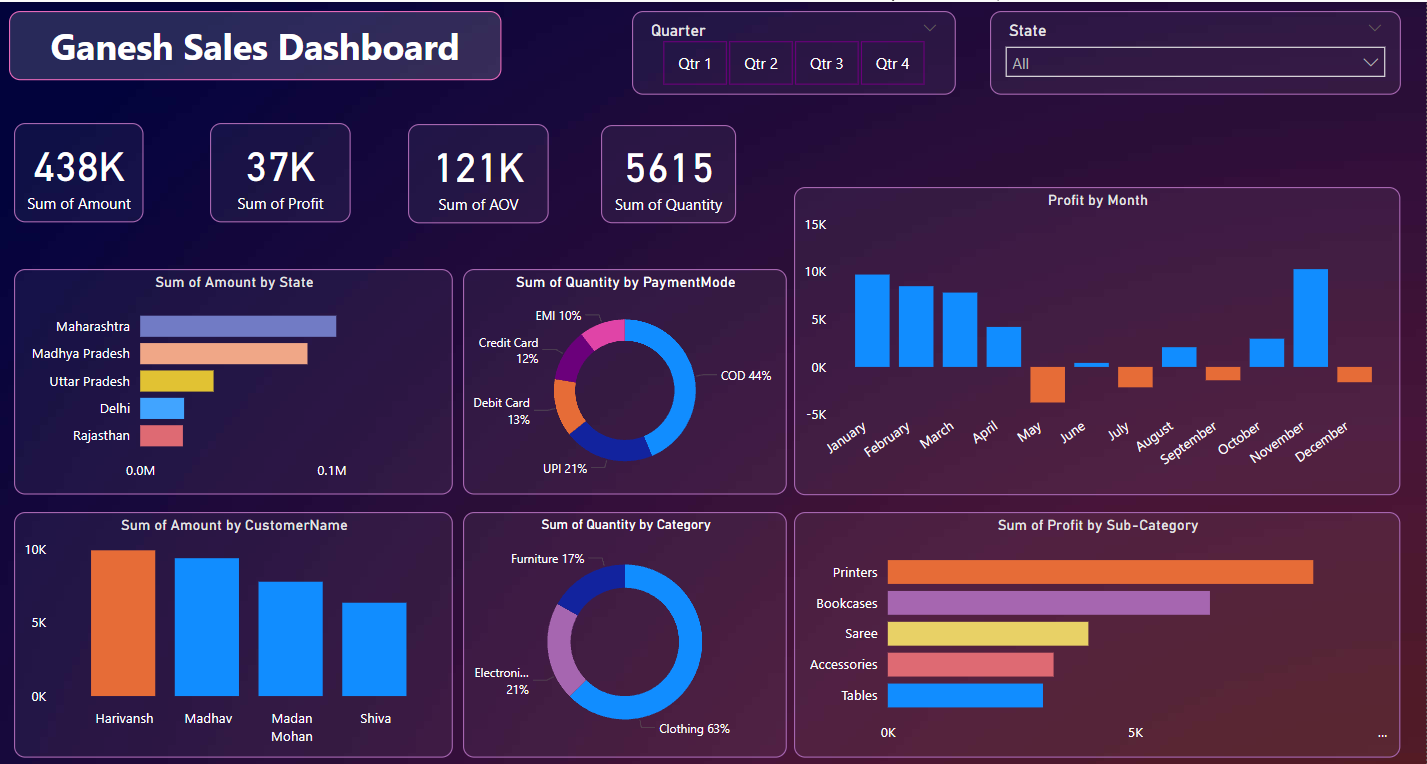

The dashboard page shown, as its layout file describes it:
{"tool":"powerbi","page":{"name":"Page 1","canvas":[1280,720],"ordinal":0},"visuals":[{"type":"textbox","box":[11.7,7.8,440.6,62.2],"z":0},{"type":"columnChart","title":"Profit by Month","fields":{"Y":["Details.Profit"],"Category":["Orders.Order Date.Variation.Date Hierarchy.Month"]},"box":[715,165.6,542.7,275.8],"z":1000},{"type":"barChart","fields":{"Category":["Details.Sub-Category"],"Y":["Details.Profit"]},"box":[714.9,457.1,542.7,219.8],"z":2000},{"type":"donutChart","fields":{"Category":["Details.Category"],"Y":["Details.Quantity"]},"box":[418.2,457.1,289.8,219.8],"z":3000},{"type":"donutChart","fields":{"Y":["Details.Quantity"],"Category":["Details.PaymentMode"]},"box":[418.2,239.3,289.8,202.3],"z":4000},{"type":"card","fields":{"Values":["Details.Amount"]},"box":[16.5,108.3,116.4,88.7],"z":5000},{"type":"card","fields":{"Values":["Details.Profit"]},"box":[191.6,108.4,126.3,88.7],"z":6000},{"type":"card","fields":{"Values":["Details.AOV"]},"box":[369,109.3,126.3,88.7],"z":7000},{"type":"card","fields":{"Values":["Details.Quantity"]},"box":[541.8,110.1,120.9,87.8],"z":8000},{"type":"barChart","fields":{"Category":["Orders.State"],"Y":["Details.Amount"]},"box":[16.5,239.3,392.9,202.3],"z":9000},{"type":"columnChart","fields":{"Category":["Orders.CustomerName"],"Y":["Details.Amount"]},"box":[16.5,457.1,392.9,219.8],"z":10000},{"type":"slicer","fields":{"Values":["Orders.Order Date.Variation.Date Hierarchy.Quarter"]},"box":[570,7.8,289.8,74.9],"z":11000},{"type":"slicer","fields":{"Values":["Orders.State"]},"box":[890,7.8,367.7,74.9],"z":12000}]}

Visuals, with their boxes on the page's 1280x720 design canvas (x1, y1, x2, y2). These are canvas units, not pixel positions in the 1427x764 screenshot, which may show the page scaled, cropped or inside an application window:
textbox: {"x1": 12, "y1": 8, "x2": 452, "y2": 70}
"Profit by Month" columnChart: {"x1": 715, "y1": 166, "x2": 1258, "y2": 441}
barChart - Details.Sub-Category x Details.Profit: {"x1": 715, "y1": 457, "x2": 1258, "y2": 677}
donutChart - Details.Category x Details.Quantity: {"x1": 418, "y1": 457, "x2": 708, "y2": 677}
donutChart - Details.Quantity x Details.PaymentMode: {"x1": 418, "y1": 239, "x2": 708, "y2": 442}
card - Details.Amount: {"x1": 16, "y1": 108, "x2": 133, "y2": 197}
card - Details.Profit: {"x1": 192, "y1": 108, "x2": 318, "y2": 197}
card - Details.AOV: {"x1": 369, "y1": 109, "x2": 495, "y2": 198}
card - Details.Quantity: {"x1": 542, "y1": 110, "x2": 663, "y2": 198}
barChart - Orders.State x Details.Amount: {"x1": 16, "y1": 239, "x2": 409, "y2": 442}
columnChart - Orders.CustomerName x Details.Amount: {"x1": 16, "y1": 457, "x2": 409, "y2": 677}
slicer - Orders.Order Date.Variation.Date Hierarchy.Quarter: {"x1": 570, "y1": 8, "x2": 860, "y2": 83}
slicer - Orders.State: {"x1": 890, "y1": 8, "x2": 1258, "y2": 83}
